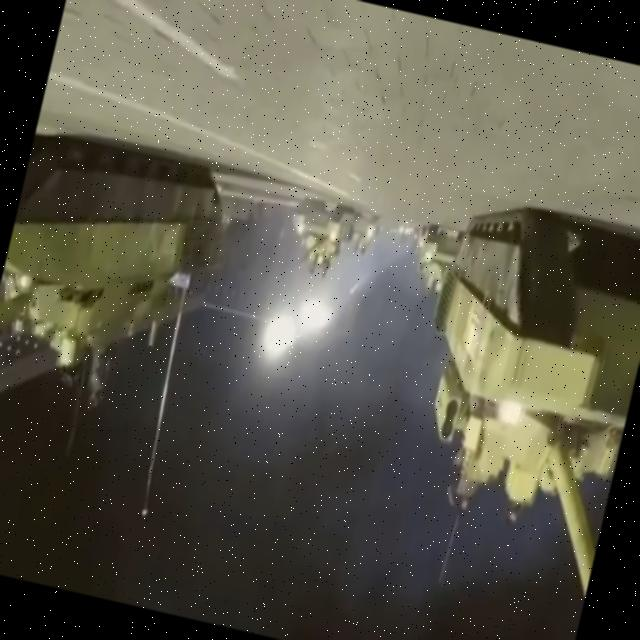north tank: (373, 164, 640, 604), (0, 95, 258, 517), (264, 168, 369, 320), (389, 195, 483, 322)
